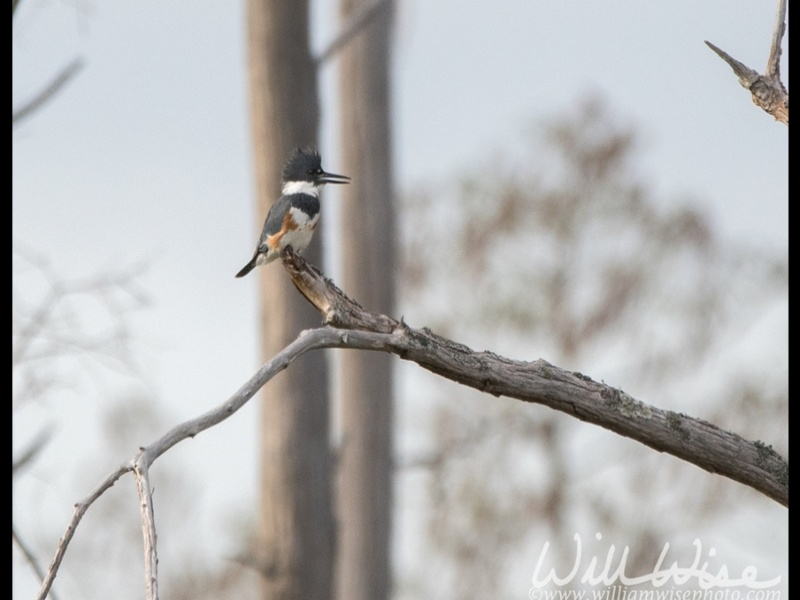kingfisher: (235, 141, 351, 284)
